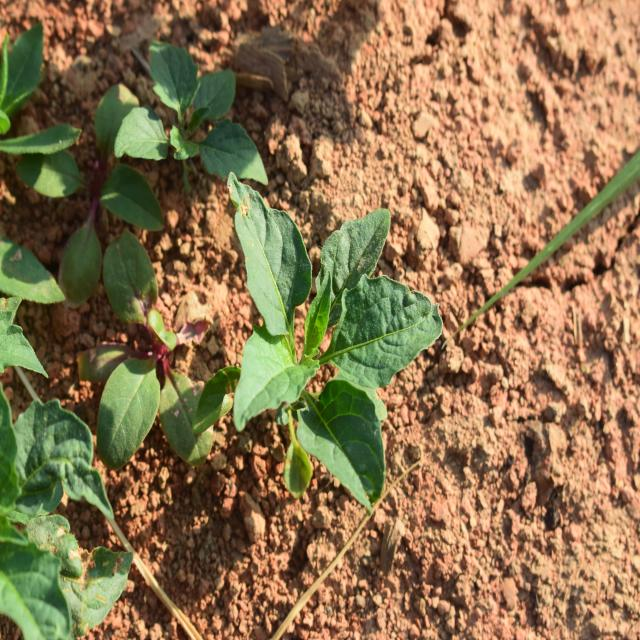Black_nightshade: (225, 189, 442, 518)
